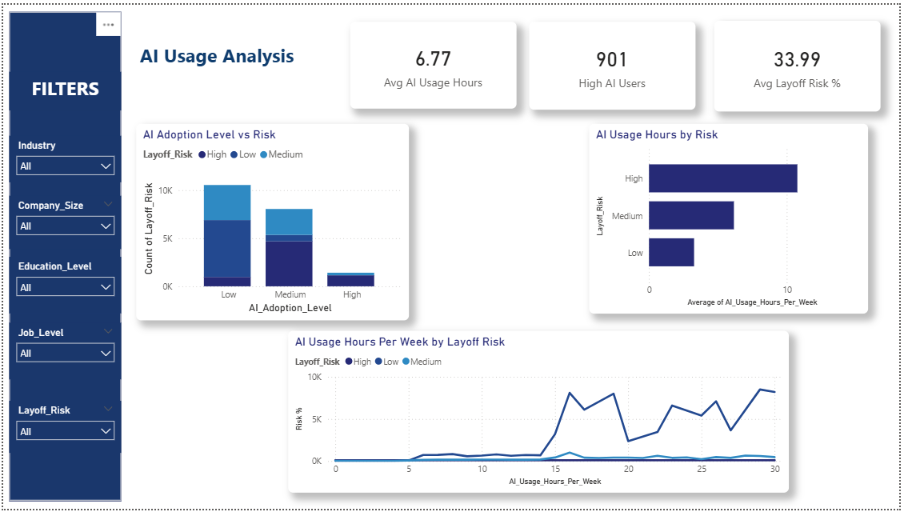

The dashboard page shown, as its layout file describes it:
{"tool":"powerbi","page":{"name":"AI Usage Analysis","canvas":[1280,720],"ordinal":8},"visuals":[{"type":"shape","box":[8.7,10,160,699.1],"z":0},{"type":"textbox","box":[8.4,96.4,160.2,55.4],"z":1000},{"type":"slicer","fields":{"Values":["AI_Impact_Cleaned.Industry"]},"box":[8.4,186.7,160.2,66.3],"z":2000},{"type":"slicer","fields":{"Values":["AI_Impact_Cleaned.Company_Size"]},"box":[8.4,273.5,160.2,75.9],"z":3000},{"type":"slicer","fields":{"Values":["AI_Impact_Cleaned.Education_Level"]},"box":[8.4,360.2,160.2,80.7],"z":4000},{"type":"slicer","fields":{"Values":["AI_Impact_Cleaned.Job_Level"]},"box":[8.4,454.2,160.2,80.7],"z":5000},{"type":"slicer","fields":{"Values":["AI_Impact_Cleaned.Layoff_Risk"]},"box":[8.4,566.3,160.2,74.7],"z":6000},{"type":"textbox","box":[190.3,48.5,260,61],"z":7000},{"type":"card","fields":{"Values":["AI_Impact_Cleaned.Avg AI Usage Hours"]},"box":[496.3,24.9,237.6,124.4],"z":8000},{"type":"card","fields":{"Values":["AI_Impact_Cleaned.High AI Users"]},"box":[751.4,24.9,237.6,125.6],"z":9000},{"type":"card","fields":{"Values":["AI_Impact_Cleaned.Avg Layoff Risk %"]},"box":[1015.1,22.4,237.6,129.4],"z":10000},{"type":"columnChart","title":"AI Adoption Level vs Risk","fields":{"Category":["AI_Impact_Cleaned.AI_Adoption_Level"],"Y":["CountNonNull(AI_Impact_Cleaned.Layoff_Risk)"],"Series":["AI_Impact_Cleaned.Layoff_Risk"]},"box":[190.3,170.4,389.4,281.1],"z":11000},{"type":"lineChart","title":"AI Usage Hours Per Week by Layoff Risk","fields":{"Category":["AI_Impact_Cleaned.AI_Usage_Hours_Per_Week"],"Y":["AI_Impact_Cleaned.Risk %"],"Series":["AI_Impact_Cleaned.Layoff_Risk"]},"box":[406.8,465.2,715.3,231.4],"z":12000},{"type":"clusteredBarChart","title":"AI Usage Hours by Risk","fields":{"Category":["AI_Impact_Cleaned.Layoff_Risk"],"Y":["Avg(AI_Impact_Cleaned.AI_Usage_Hours_Per_Week)"]},"box":[837.2,170.4,398.1,271.2],"z":13000}]}

Visuals, with their boxes in screenshot pixels (x1, y1, x2, y2), scaled from the page's 1280x720 canvas onto the 903x513 screenshot:
shape: 6 7 119 505
textbox: 6 69 119 108
slicer - AI_Impact_Cleaned.Industry: 6 133 119 180
slicer - AI_Impact_Cleaned.Company_Size: 6 195 119 249
slicer - AI_Impact_Cleaned.Education_Level: 6 257 119 314
slicer - AI_Impact_Cleaned.Job_Level: 6 324 119 381
slicer - AI_Impact_Cleaned.Layoff_Risk: 6 403 119 457
textbox: 134 35 318 78
card - AI_Impact_Cleaned.Avg AI Usage Hours: 350 18 518 106
card - AI_Impact_Cleaned.High AI Users: 530 18 698 107
card - AI_Impact_Cleaned.Avg Layoff Risk %: 716 16 884 108
"AI Adoption Level vs Risk" columnChart: 134 121 409 322
"AI Usage Hours Per Week by Layoff Risk" lineChart: 287 331 792 496
"AI Usage Hours by Risk" clusteredBarChart: 591 121 871 315
